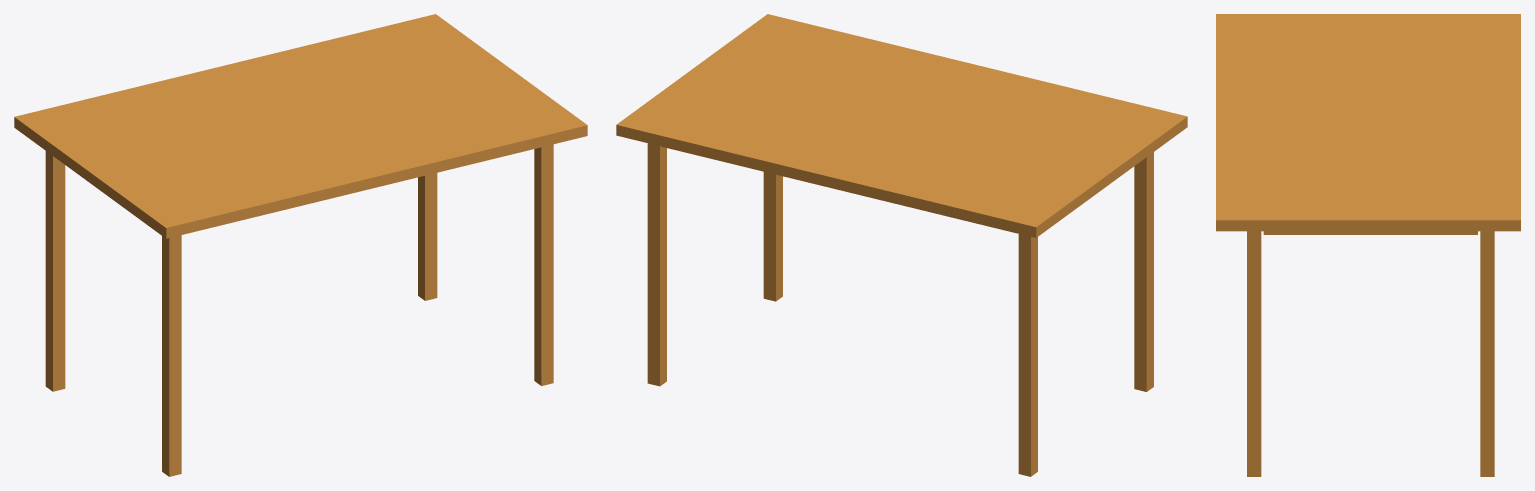
The model's file is desk.obj.
3 views of the same model, side by side, from view 1: azimuth 30°, elevation 25°; view 2: azimuth 150°, elevation 25°; view 3: azimuth 270°, elevation 25° (orthographic).
Parts seen in each view (by area): view 1: group1451144624, group1362559056, group984337789, group1824026836, group600043365; view 2: group1451144624, group600043365, group1362559056, group984337789, group1824026836; view 3: group1451144624, group1824026836, group600043365, group945023246.
Part boxes in pixels (bbox=[...]): group1451144624: bbox=[14, 14, 587, 238]; group1362559056: bbox=[45, 151, 65, 391]; group984337789: bbox=[162, 235, 181, 476]; group1824026836: bbox=[534, 144, 553, 385]; group600043365: bbox=[418, 173, 437, 300]; group1451144624: bbox=[616, 14, 1187, 237]; group600043365: bbox=[647, 143, 666, 386]; group1362559056: bbox=[1018, 234, 1037, 476]; group984337789: bbox=[1134, 152, 1153, 391]; group1824026836: bbox=[763, 172, 782, 301]; group1451144624: bbox=[1216, 14, 1520, 231]; group1824026836: bbox=[1247, 231, 1261, 476]; group600043365: bbox=[1480, 231, 1494, 476]; group945023246: bbox=[1263, 231, 1477, 234].
Size of the model in its own units: 2.05 by 1.23 by 1.28.
